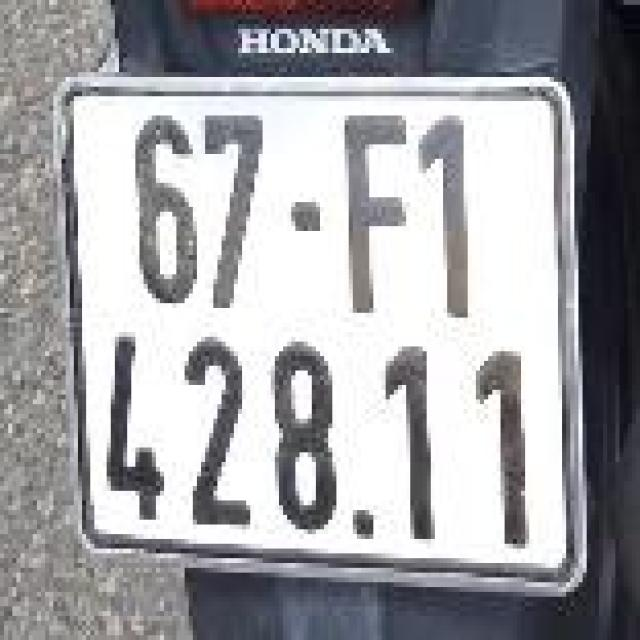1: (406, 103, 488, 334), (468, 330, 542, 560), (378, 342, 447, 558)
2: (166, 327, 261, 558)
4: (64, 298, 170, 544)
6: (105, 98, 203, 324)
7: (191, 96, 285, 322)
8: (260, 322, 355, 558)
F: (320, 98, 423, 330)
